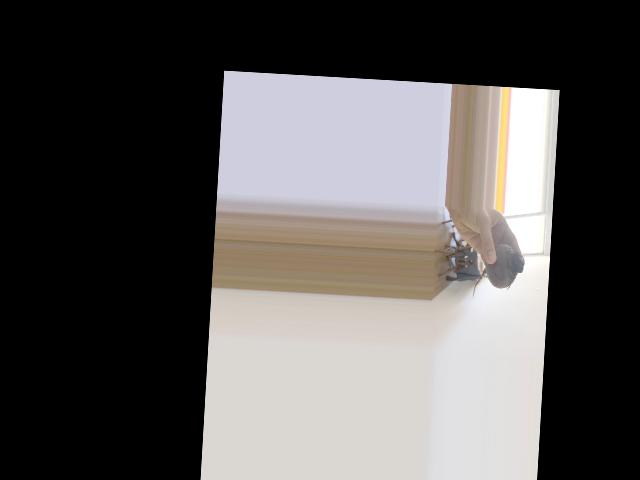beet: (472, 242, 525, 302)
